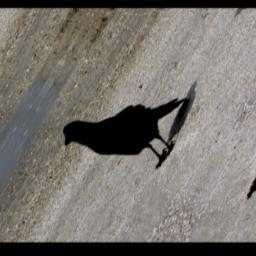Crow: (53, 67, 203, 178)
